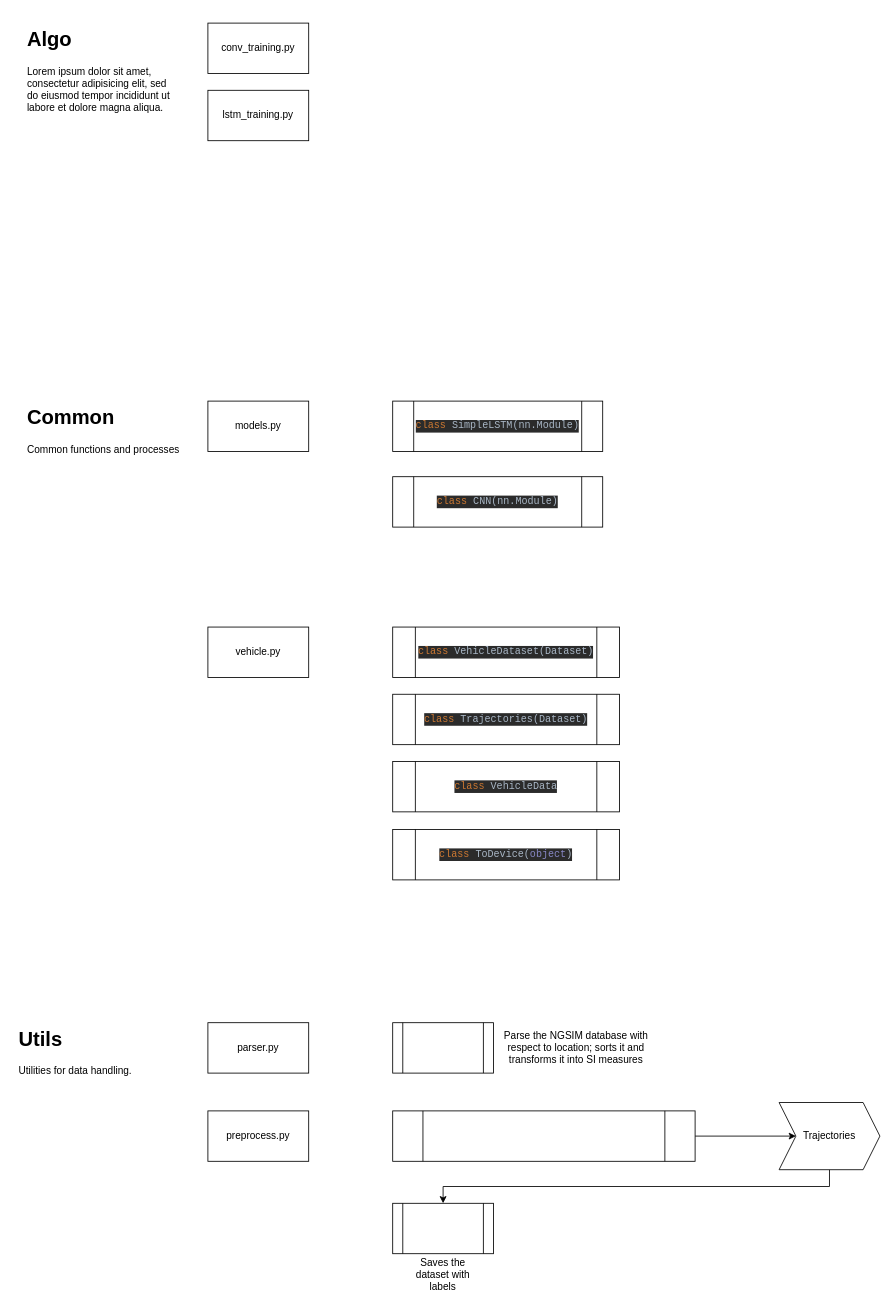
Image size: 895x1310. Some labels were removed from this diagram. The shapes that lost their labels are listed below. From the top down, each one's centre as x and y in pixels, then its label:
At point (443, 1047): "parser ()".
At point (543, 1135): "preprocess (raw_dataset: VehicleDataset , window_size: int , shift: int )".
At point (443, 1228): "run ()".
